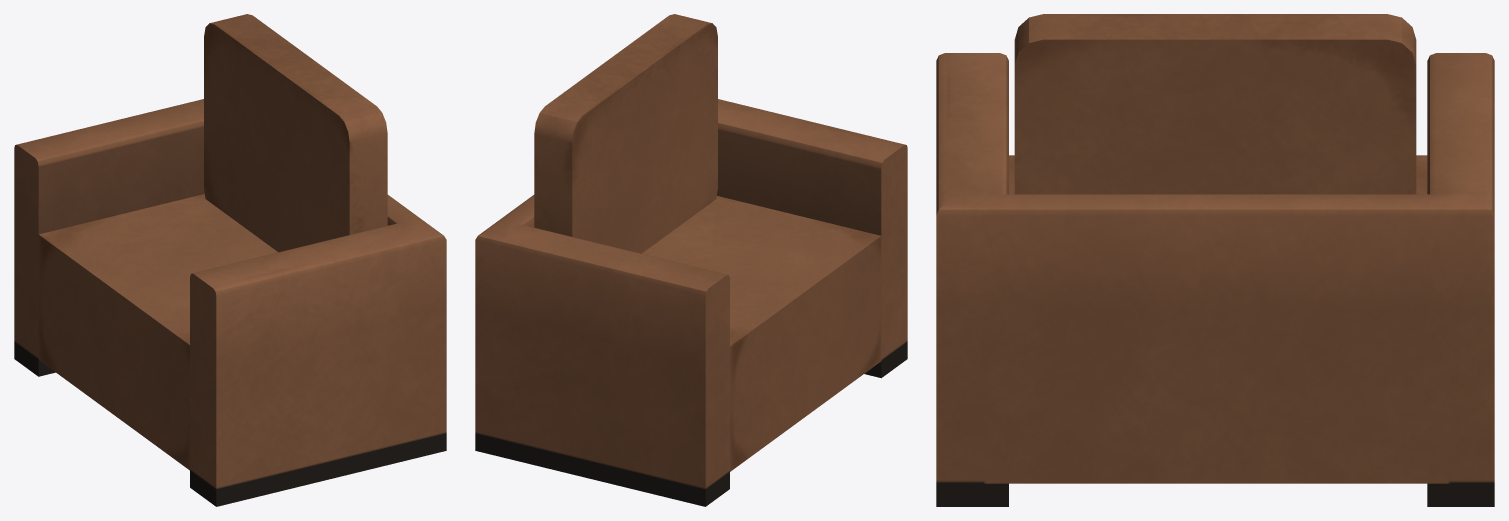
3 renders of one model, left to right at view 1: azimuth 30°, elevation 25°; view 2: azimuth 150°, elevation 25°; view 3: azimuth 270°, elevation 25°, orthographic. The views are drawn at different scales.
Visible parts, largest first — view 1: pCube4; view 2: pCube4; view 3: pCube4.
Boxes of the visible parts, left/top/right/bottom form: pCube4: left=14, top=14, right=446, bottom=506; pCube4: left=475, top=14, right=907, bottom=506; pCube4: left=936, top=14, right=1494, bottom=506.
Size of the model in its own units: 3.98 by 5.33 by 6.04.
